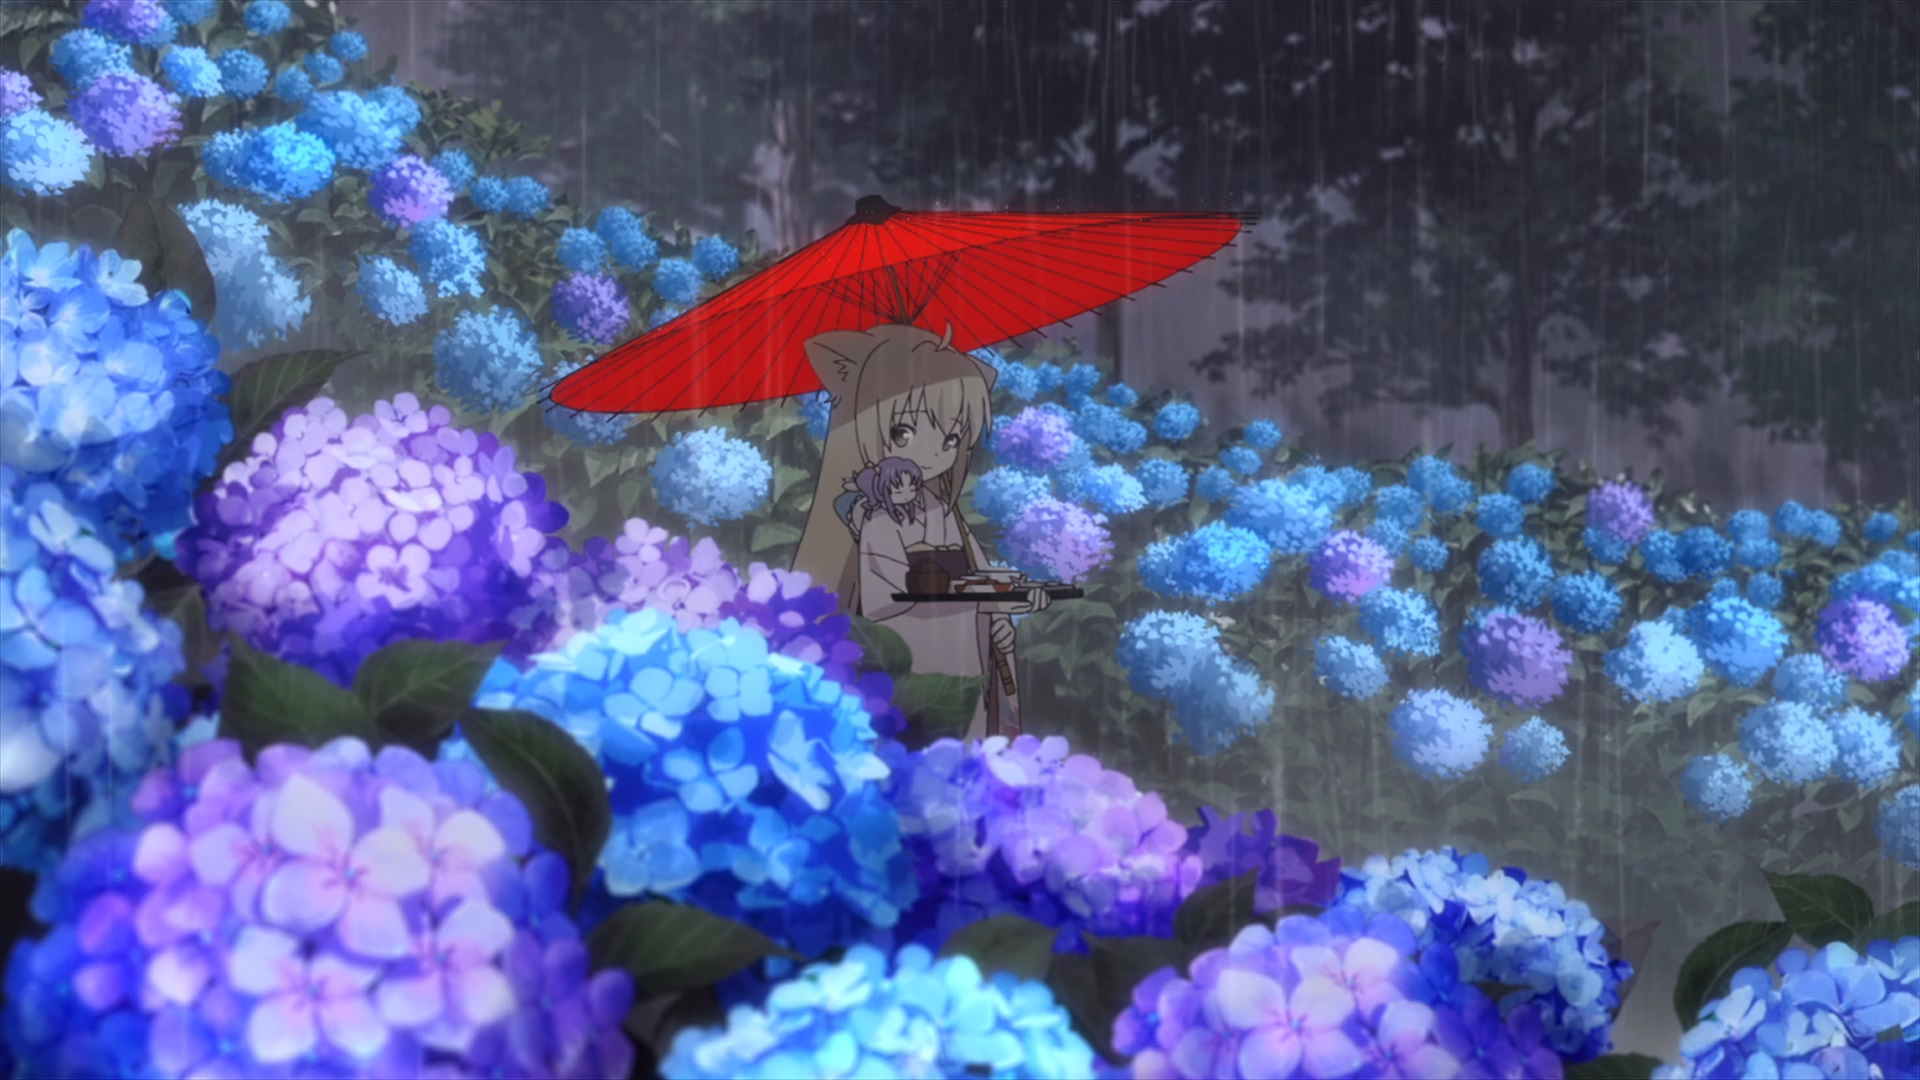柚: (790, 316, 1050, 749)
阿菊: (833, 458, 924, 545)
